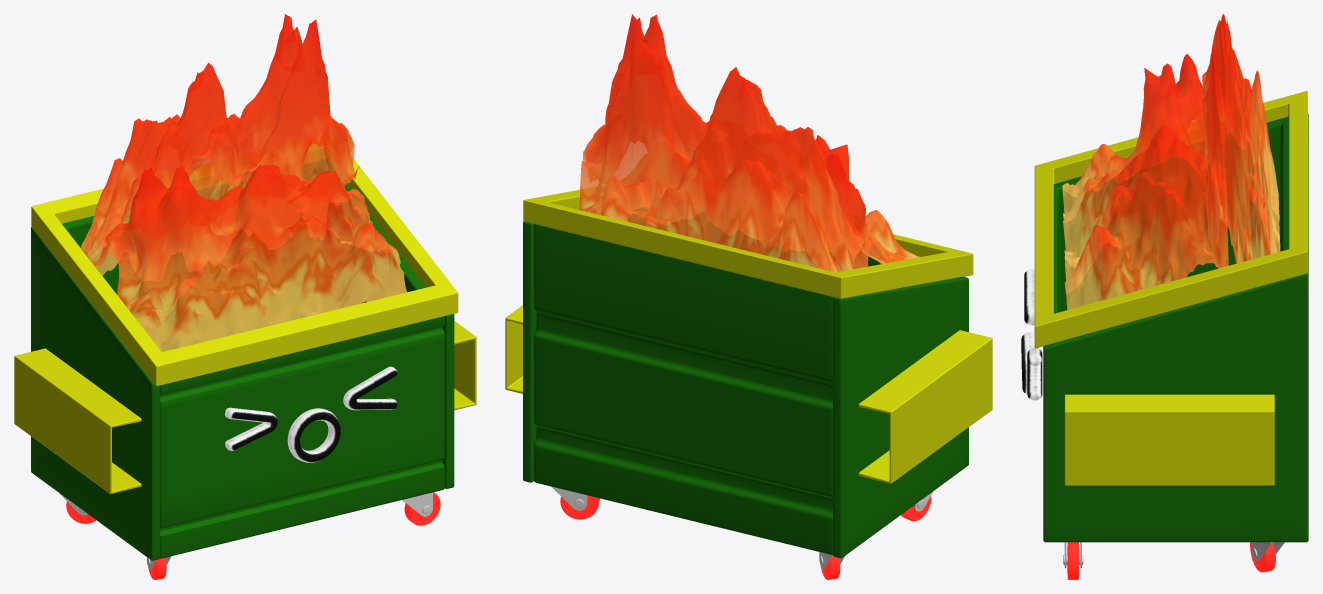
The picture shows the model from 3 angles, left to right: view 1: azimuth 30°, elevation 25°; view 2: azimuth 150°, elevation 25°; view 3: azimuth 270°, elevation 25°; orthographic projection. The views are drawn at different scales.
Parts seen in each view (by area): view 1: Dumpster Geometry, Small Fire.008, Fire Small Back.008, Wheel Holder; view 2: Dumpster Geometry, Fire Small Back.008, Small Fire.008, Wheel Holder; view 3: Dumpster Geometry, Small Fire.008, Fire Small Back.008, Wheel Holder.
Boxes of the visible parts, x1,y1,x2,y2 form: Dumpster Geometry: [14, 144, 476, 579]; Small Fire.008: [91, 165, 406, 351]; Fire Small Back.008: [81, 14, 359, 281]; Wheel Holder: [59, 492, 433, 569]; Dumpster Geometry: [505, 186, 992, 579]; Fire Small Back.008: [579, 14, 864, 272]; Small Fire.008: [588, 135, 919, 269]; Wheel Holder: [551, 486, 933, 568]; Dumpster Geometry: [1021, 91, 1308, 579]; Small Fire.008: [1062, 53, 1228, 309]; Fire Small Back.008: [1202, 14, 1280, 263]; Wheel Holder: [1063, 542, 1284, 568].
Size of the model in its own units: 2.3 by 2.86 by 1.43.
7 materials, 3 textured.
